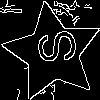S: (27, 27, 78, 67)
